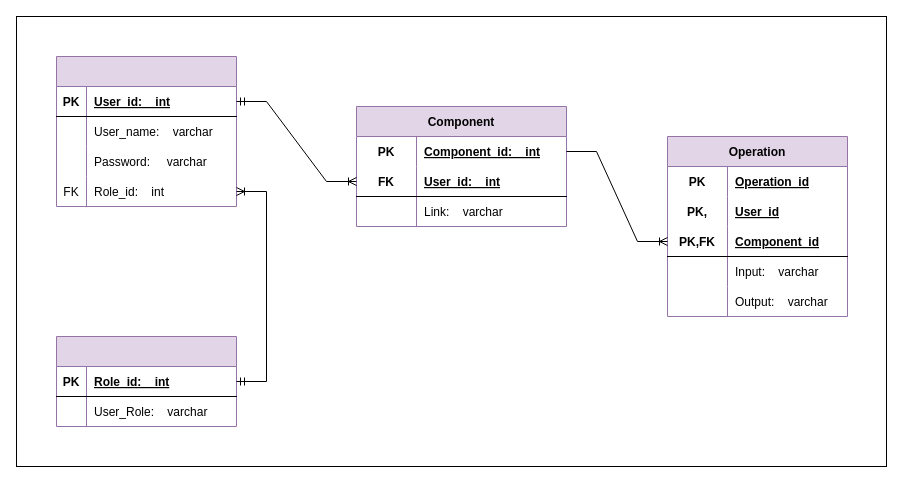
The diagram is 903 pixels wide and 483 high, and some of its shapes have lost their labels. The shapes that lost their labels are listed below. From the top down, each one's box as (x1, y1, x2, y2) in pixels, then its label:
(56, 56, 236, 206): Users
(56, 336, 236, 426): Roles
